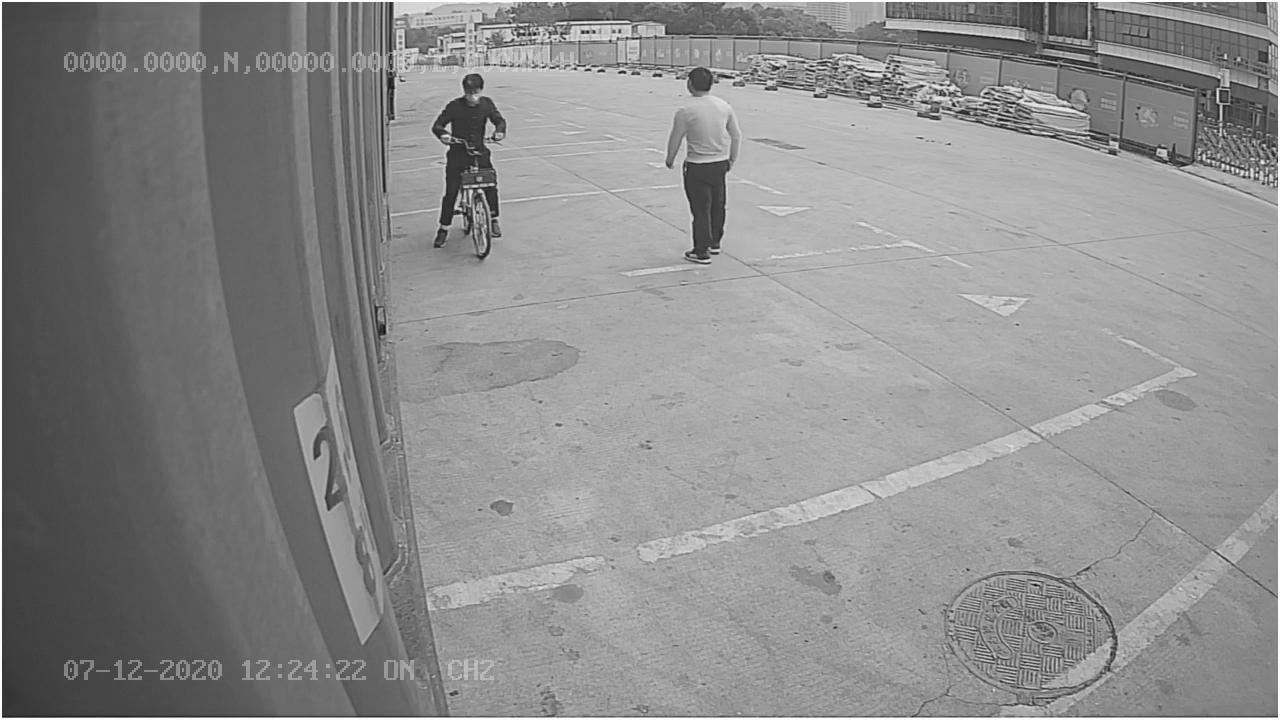person: (659, 64, 746, 267)
